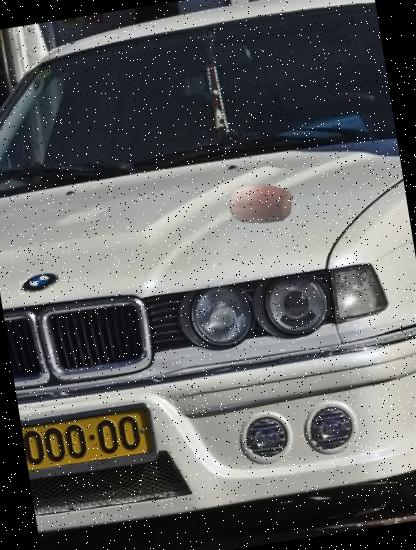Hazelnut: (221, 167, 298, 243)
